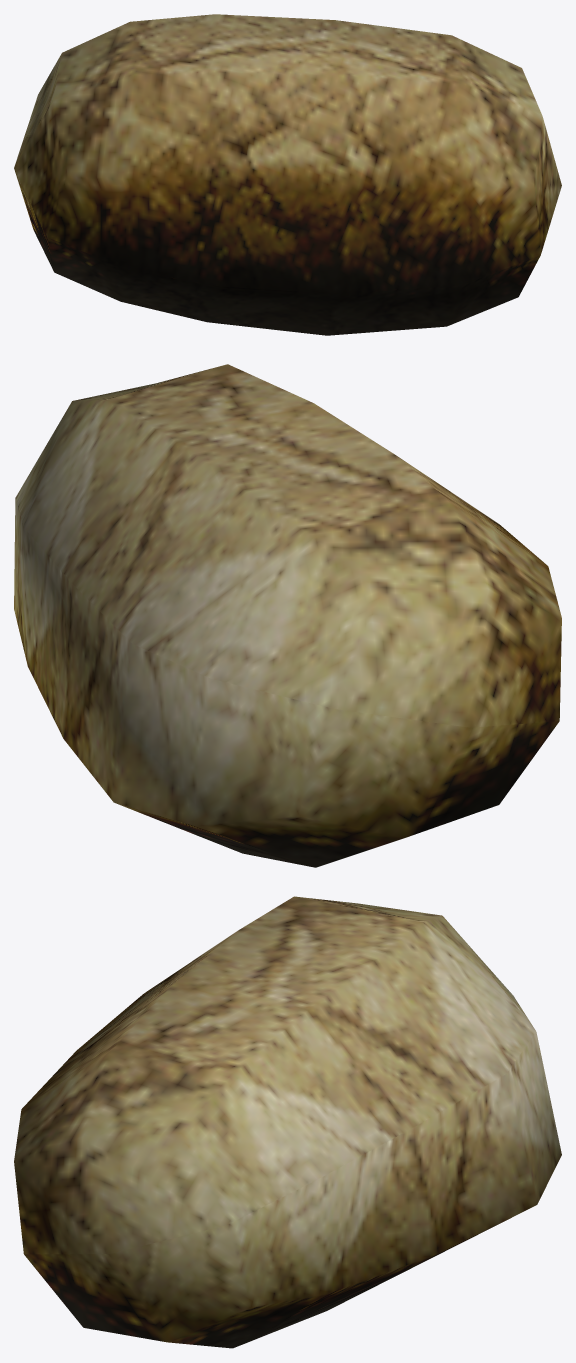
File: stone01.FBX
3 views of the same model, one above another, from view 1: azimuth 30°, elevation 25°; view 2: azimuth 150°, elevation 25°; view 3: azimuth 270°, elevation 25° (orthographic). The views are drawn at different scales.
Parts seen in each view (by area): view 1: stone01; view 2: stone01; view 3: stone01.
Boxes of the visible parts, x1,y1,x2,y2 form: stone01: (14, 14, 561, 335); stone01: (14, 364, 561, 867); stone01: (14, 896, 561, 1348).
Bounding box in the file's own units: 1586 × 906 × 1443.
